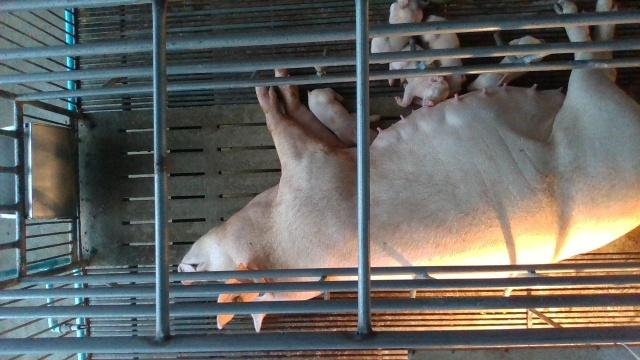piglet: (308, 88, 379, 147), (467, 35, 545, 87), (390, 44, 449, 108), (420, 15, 466, 97), (372, 0, 424, 51)
sow-sleep-lactate: (177, 0, 640, 332)
